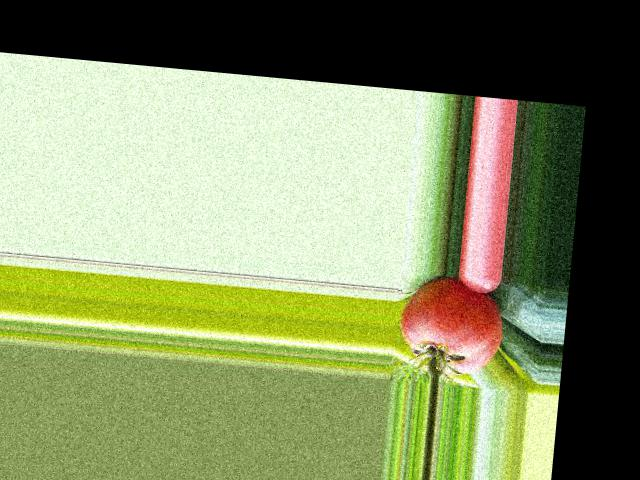tomato: (396, 273, 506, 377)
